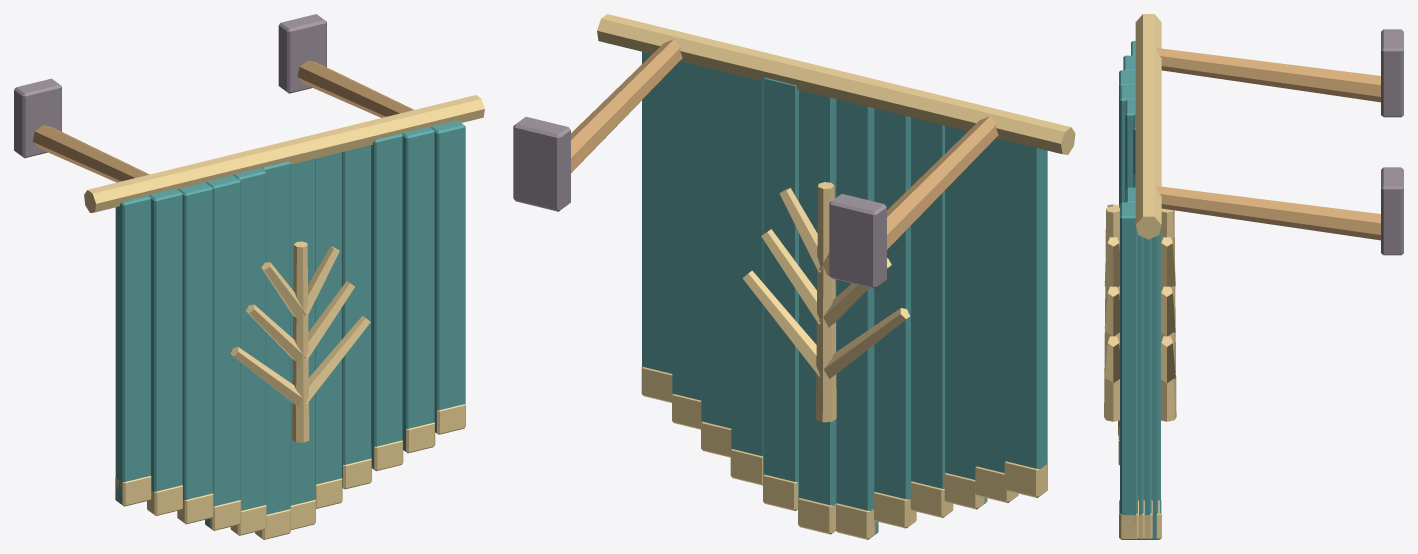
The model's file is temple_pennant.glb.
3 renders of one model, left to right at view 1: azimuth 30°, elevation 25°; view 2: azimuth 150°, elevation 25°; view 3: azimuth 270°, elevation 25°, orthographic. The views are drawn at different scales.
Bounding box in the file's own units: 0.94 × 0.9042 × 0.5875.
